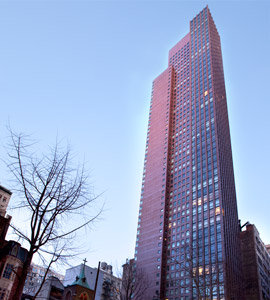Sky Building: (144, 4, 239, 295)
